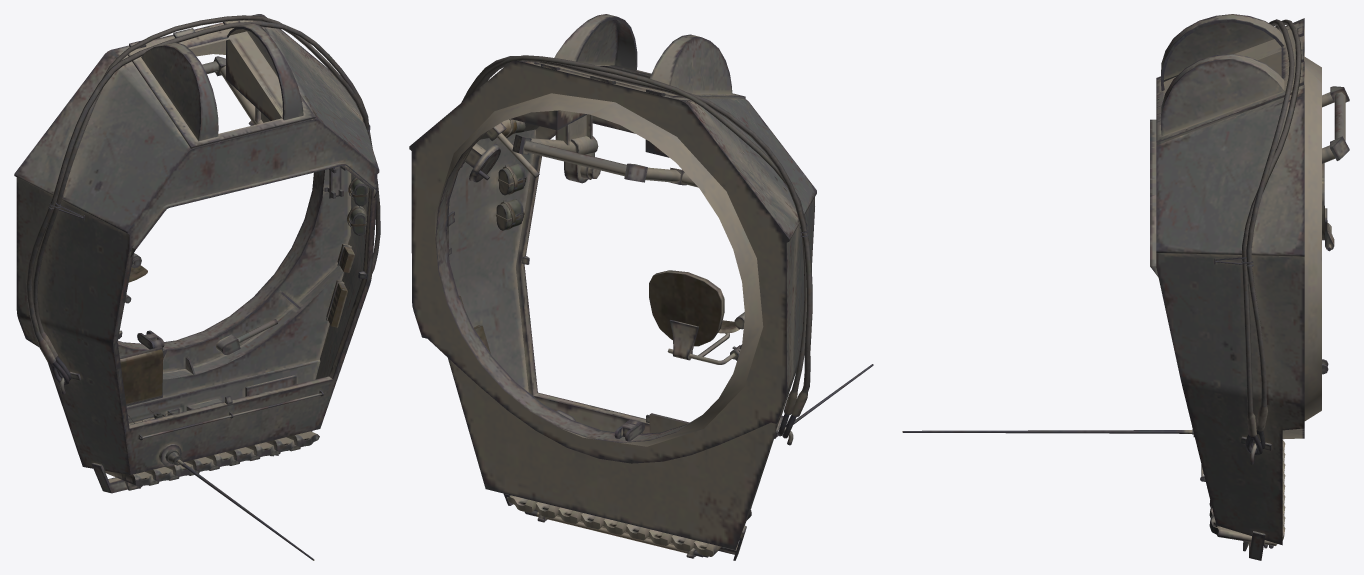
File: Turret_01.glb
The picture shows the model from 3 angles, left to right: view 1: azimuth 30°, elevation 25°; view 2: azimuth 150°, elevation 25°; view 3: azimuth 270°, elevation 25°; orthographic projection. The views are drawn at different scales.
Parts seen in each view (by area): view 1: set_0_group_0; view 2: set_0_group_0; view 3: set_0_group_0.
Boxes of the visible parts, x1=… form: set_0_group_0: x1=14, y1=14, x2=380, y2=560; set_0_group_0: x1=409, y1=14, x2=873, y2=560; set_0_group_0: x1=902, y1=14, x2=1349, y2=560.
Size of the model in its own units: 2.15 by 2.64 by 2.26.
1 material, 1 textured.
